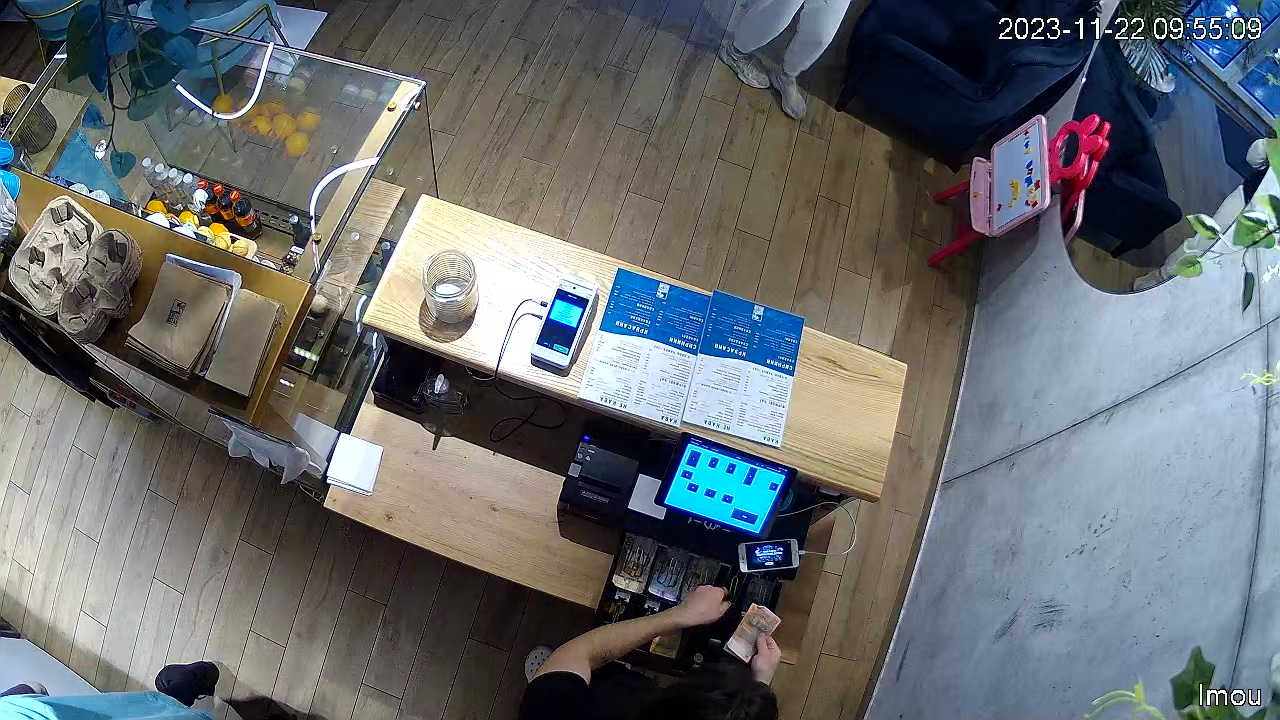openedcash: (579, 527, 790, 683)
